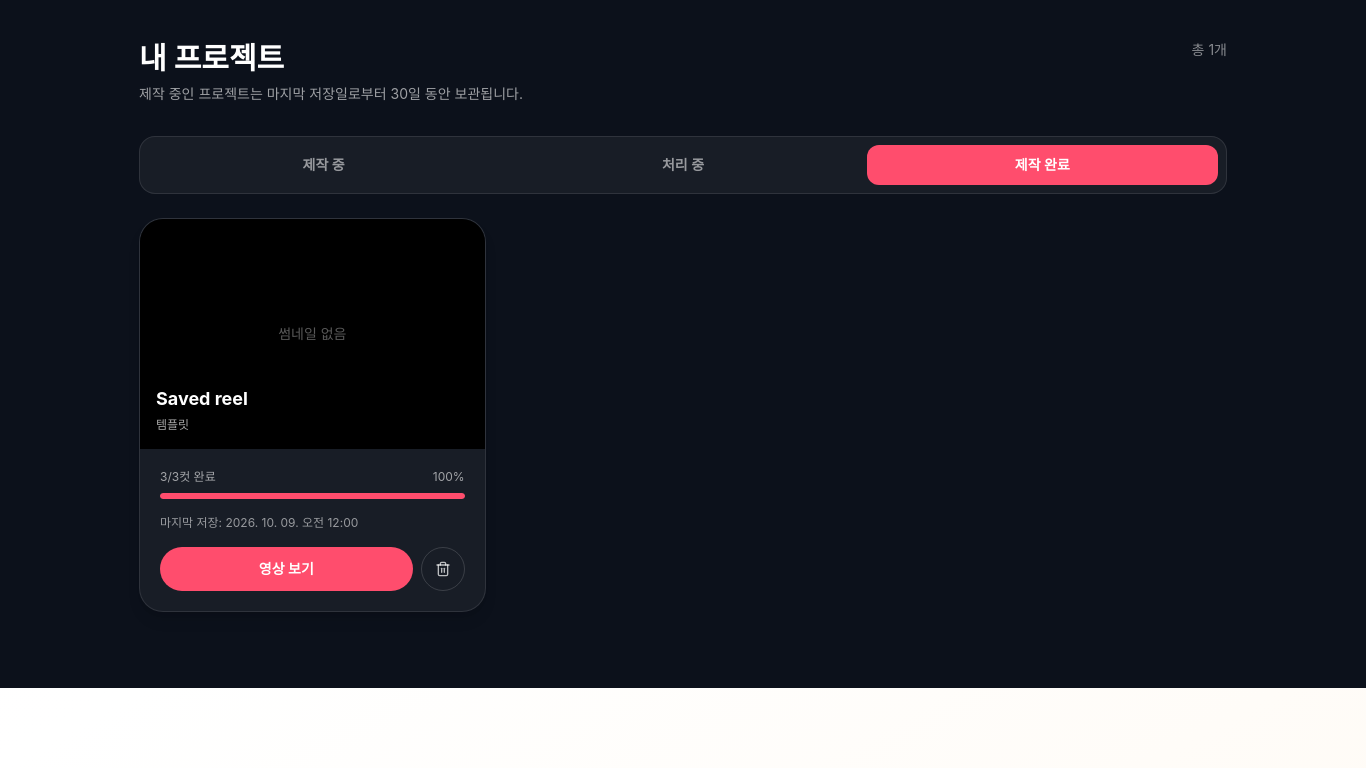
Scenario: keeps the card and shows a retryable video error when signing fails
Click the button "영상 보기".
click(286, 569)  # box [160, 547, 413, 591]
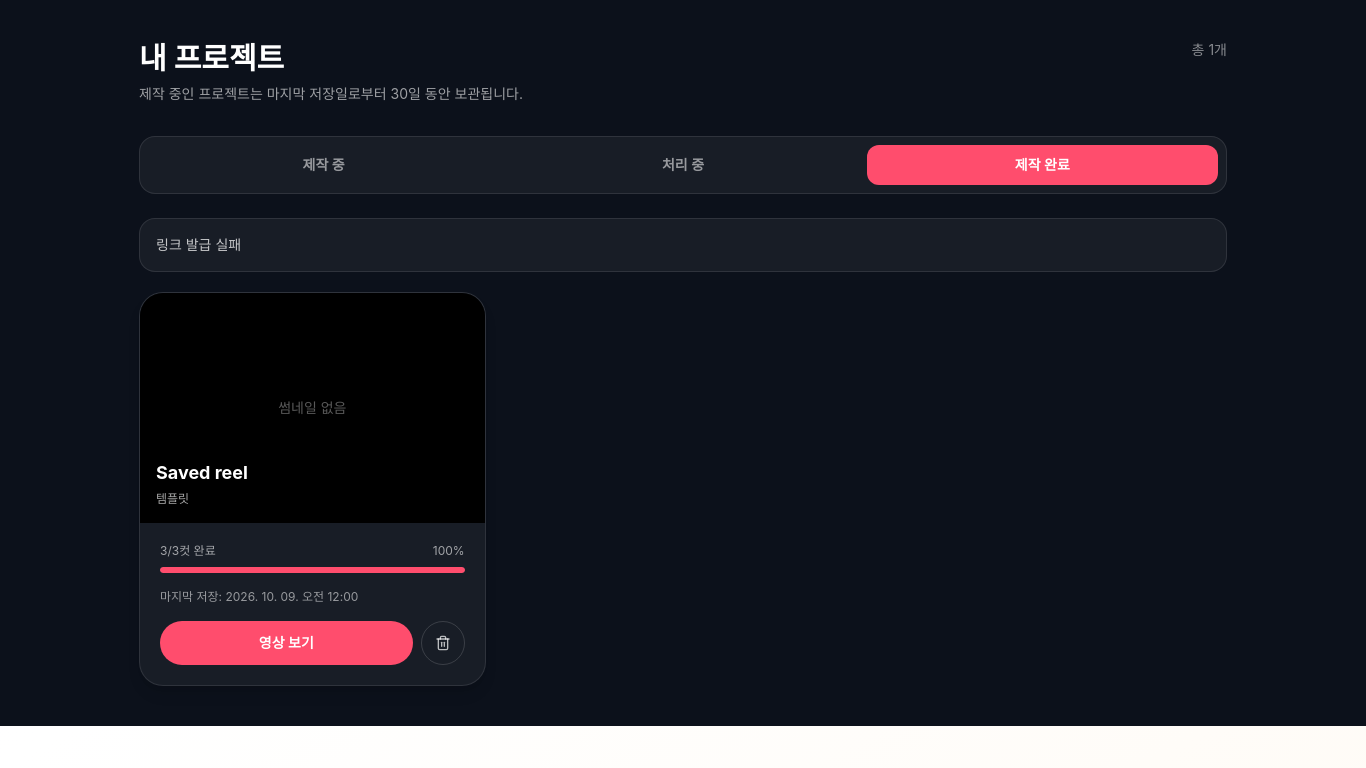
Expected: the heading "Saved reel" is shown, [156, 462, 248, 483]
Expected: the text "링크 발급 실패" is shown, [139, 218, 1227, 272]
